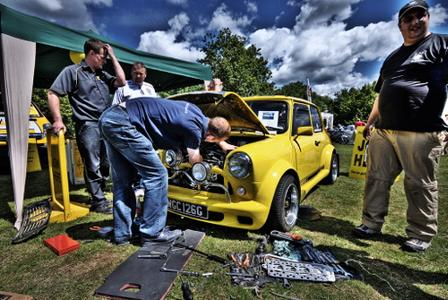person: (98, 96, 239, 246)
